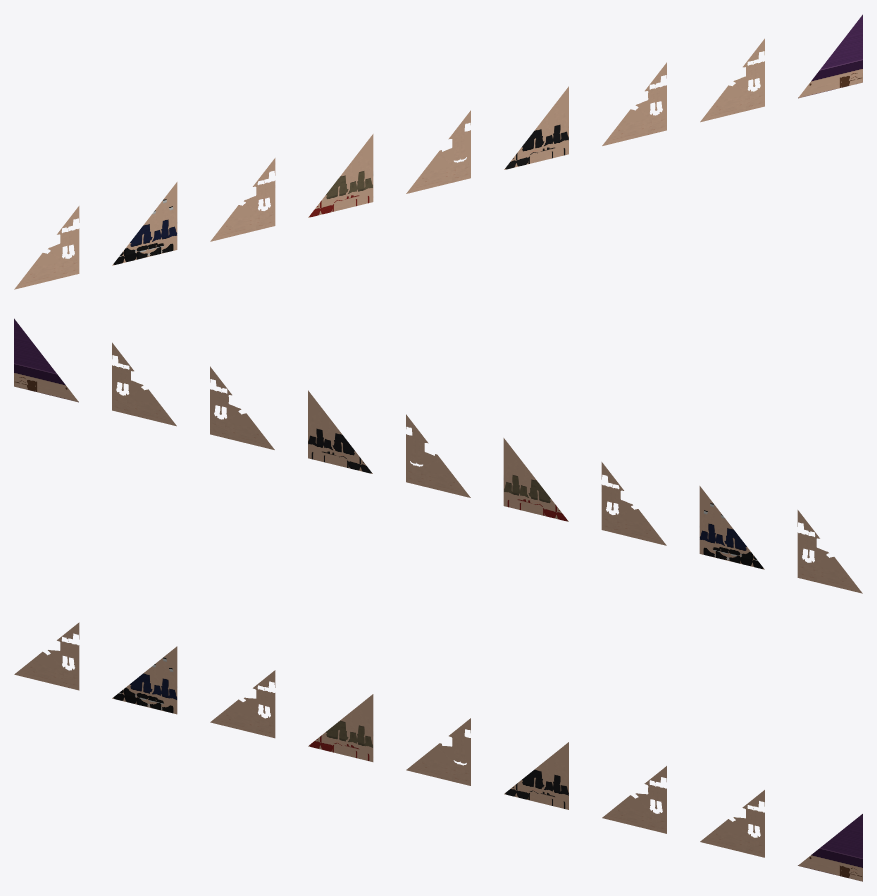
The model's file is child_textures.fbx.
The picture shows the model from 3 angles, top to bottom: view 1: azimuth 30°, elevation 25°; view 2: azimuth 150°, elevation 25°; view 3: azimuth 330°, elevation 25°; orthographic projection.
Parts seen in each view (by area): view 1: Tex_c_tee_lower, Tex_c_school_lower, Tex_c_girl_tee_lower, Tex_c_singlet_lower, Tex_c_singlet_upper, Tex_c_tee_upper, Tex_c_school_upper, Tex_c_girl_tee_upper, Tex_c_girl_sin_upper; view 2: Tex_c_tee_lower, Tex_c_school_lower, Tex_c_girl_tee_lower, Tex_c_singlet_lower, Tex_c_singlet_upper, Tex_c_tee_upper, Tex_c_school_upper, Tex_c_girl_tee_upper, Tex_c_girl_sin_upper; view 3: Tex_c_tee_lower, Tex_c_school_lower, Tex_c_girl_tee_lower, Tex_c_singlet_lower, Tex_c_singlet_upper, Tex_c_tee_upper, Tex_c_school_upper, Tex_c_girl_tee_upper, Tex_c_girl_sin_upper.
Part boxes in pixels (<box>): Tex_c_tee_lower: <box>308,134,373,217</box>; Tex_c_school_lower: <box>112,182,177,265</box>; Tex_c_girl_tee_lower: <box>798,14,862,98</box>; Tex_c_singlet_lower: <box>504,86,568,169</box>; Tex_c_singlet_upper: <box>406,110,470,193</box>; Tex_c_tee_upper: <box>210,158,275,241</box>; Tex_c_school_upper: <box>14,206,79,289</box>; Tex_c_girl_tee_upper: <box>700,38,764,122</box>; Tex_c_girl_sin_upper: <box>602,62,666,145</box>; Tex_c_tee_lower: <box>503,438,568,521</box>; Tex_c_school_lower: <box>699,486,764,569</box>; Tex_c_girl_tee_lower: <box>14,318,78,402</box>; Tex_c_singlet_lower: <box>308,390,372,473</box>; Tex_c_singlet_upper: <box>406,414,470,497</box>; Tex_c_tee_upper: <box>601,462,666,545</box>; Tex_c_school_upper: <box>797,510,862,593</box>; Tex_c_girl_tee_upper: <box>112,342,176,426</box>; Tex_c_girl_sin_upper: <box>210,366,274,449</box>; Tex_c_tee_lower: <box>308,694,373,761</box>; Tex_c_school_lower: <box>112,646,177,714</box>; Tex_c_girl_tee_lower: <box>798,814,862,881</box>; Tex_c_singlet_lower: <box>504,742,568,809</box>; Tex_c_singlet_upper: <box>406,718,470,785</box>; Tex_c_tee_upper: <box>210,670,275,738</box>; Tex_c_school_upper: <box>14,622,79,690</box>; Tex_c_girl_tee_upper: <box>700,790,764,857</box>; Tex_c_girl_sin_upper: <box>602,766,666,833</box>.
Size of the model in its own units: 455 by 35 by 5.7e-06.
